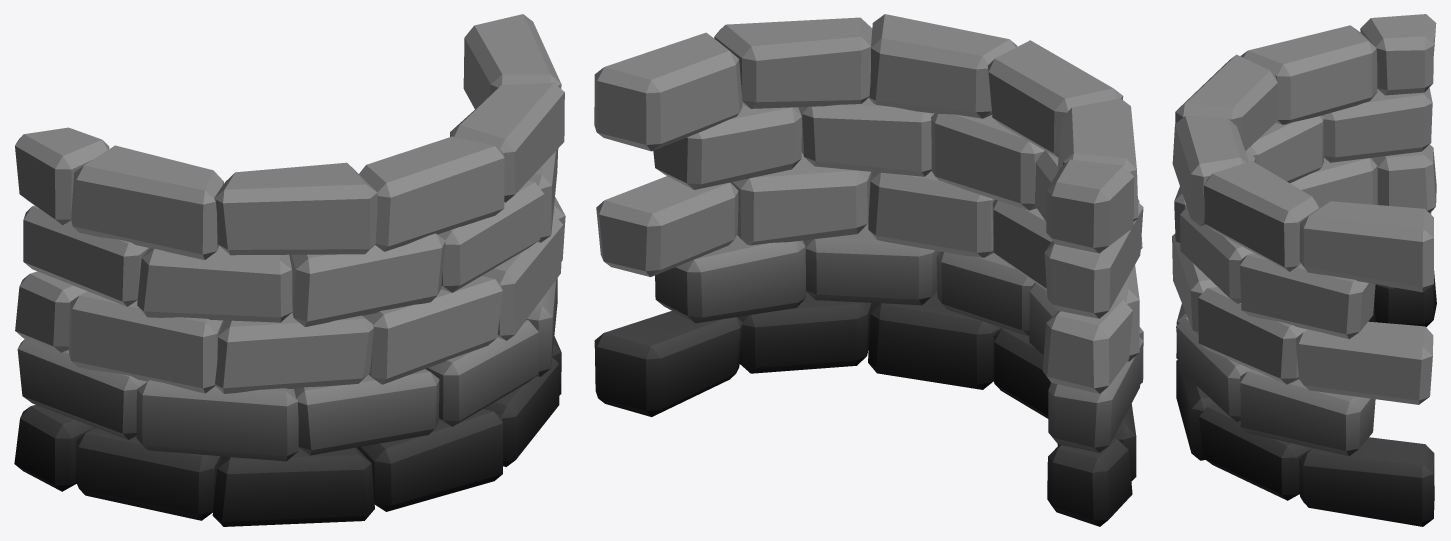
Rendered from BrickWall2x1_01_T180_End_R.fbx.
3 views of the same model, side by side, from view 1: azimuth 30°, elevation 25°; view 2: azimuth 150°, elevation 25°; view 3: azimuth 270°, elevation 25° (orthographic). The views are drawn at different scales.
Visible parts, largest first — view 1: BrickWall2x1_01_T180_End_R; view 2: BrickWall2x1_01_T180_End_R; view 3: BrickWall2x1_01_T180_End_R.
Boxes of the visible parts, left/top/right/bottom form: BrickWall2x1_01_T180_End_R: left=14, top=14, right=565, bottom=526; BrickWall2x1_01_T180_End_R: left=594, top=14, right=1143, bottom=526; BrickWall2x1_01_T180_End_R: left=1172, top=14, right=1436, bottom=526.
Size of the model in its own units: 163 by 101 by 81.47.
